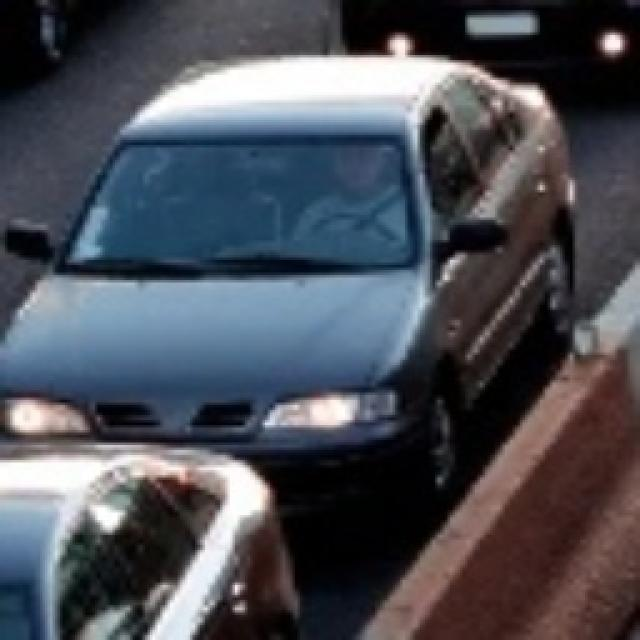windshield: (53, 122, 438, 286)
